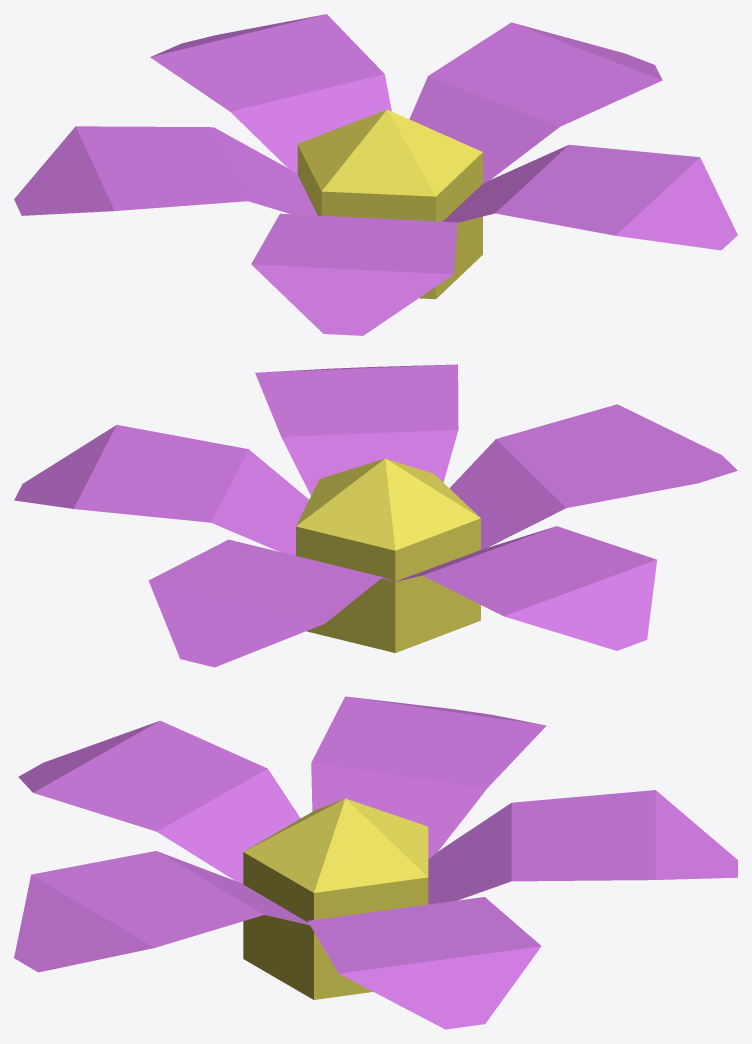
File: Flower_Purple_3.fbx
3 renders of one model, top to bottom at view 1: azimuth 30°, elevation 25°; view 2: azimuth 150°, elevation 25°; view 3: azimuth 270°, elevation 25°, orthographic. The views are drawn at different scales.
Parts seen in each view (by area): view 1: Flower_Purple_3; view 2: Flower_Purple_3; view 3: Flower_Purple_3.
Boxes of the visible parts, x1=… form: Flower_Purple_3: x1=14, y1=14, x2=737, y2=335; Flower_Purple_3: x1=14, y1=364, x2=737, y2=667; Flower_Purple_3: x1=14, y1=696, x2=737, y2=1029.
Bounding box in the file's own units: 34.6 × 8.08 × 33.04.
